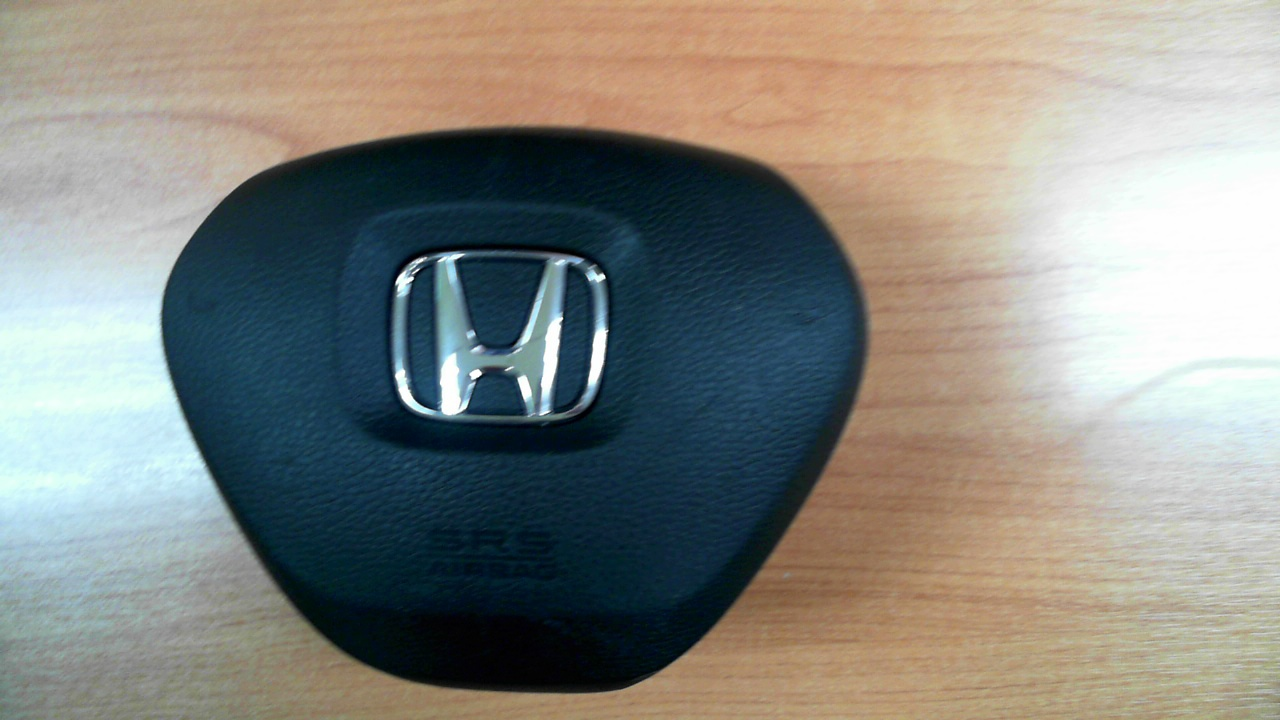Airbag: (159, 125, 871, 695)
Honda: (393, 250, 609, 418)
